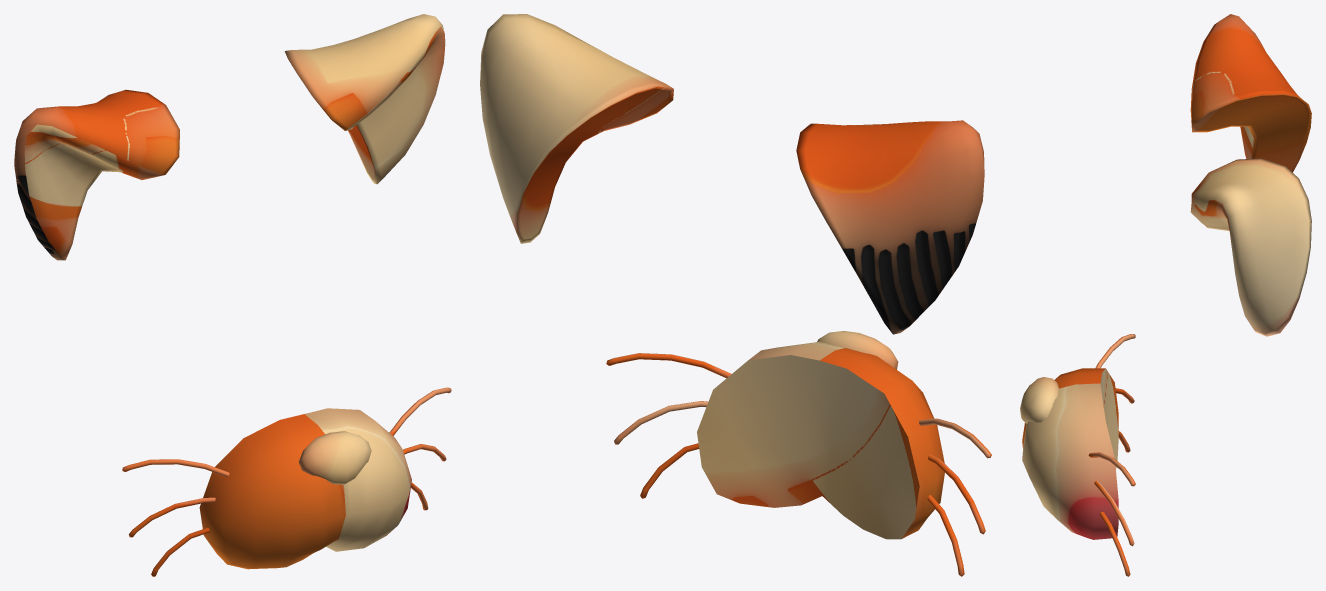
3 views of the same model, side by side, from view 1: azimuth 30°, elevation 25°; view 2: azimuth 150°, elevation 25°; view 3: azimuth 270°, elevation 25° (orthographic). The views are drawn at different scales.
Parts seen in each view (by area): view 1: AnimalFace_Cat; view 2: AnimalFace_Cat; view 3: AnimalFace_Cat.
Boxes of the visible parts, x1,y1,x2,y2 form: AnimalFace_Cat: (14, 14, 451, 576); AnimalFace_Cat: (480, 14, 991, 576); AnimalFace_Cat: (1020, 14, 1311, 576).
Bounding box in the file's own units: 95 × 92.72 × 59.78.
Materials: 1 (1 with a texture image).
